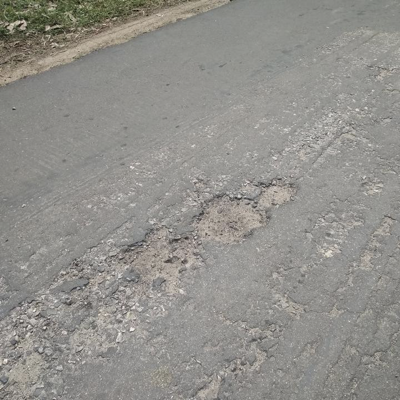pothole: (114, 223, 203, 292), (188, 193, 270, 247), (255, 178, 300, 209)
